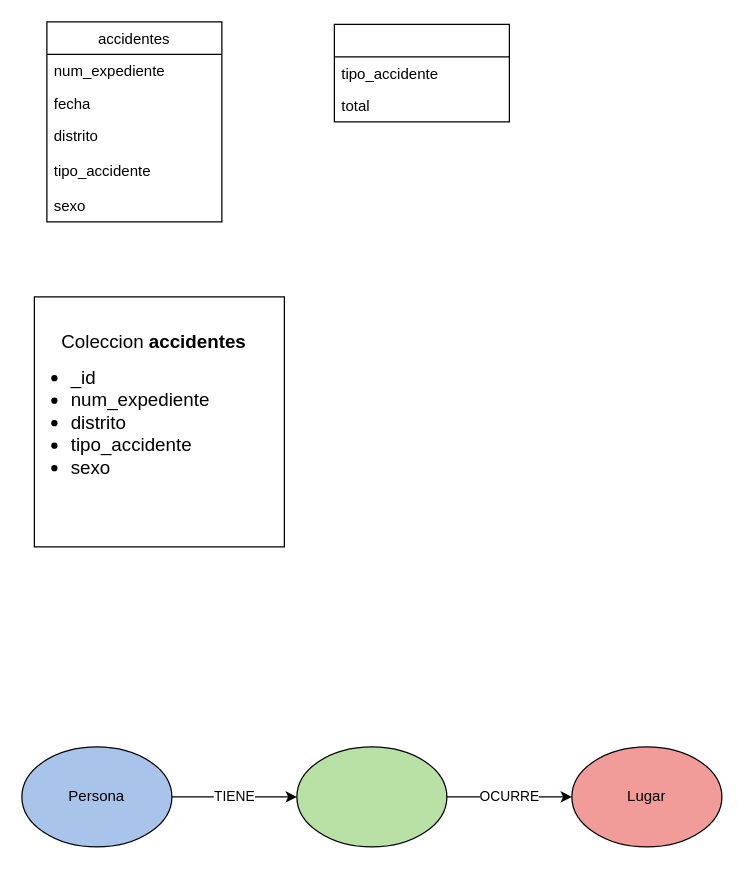
Some shapes in this 744 by 869 pixel diagram are drawn without their labels. Each missing label, with the box of its shape:
Accidente: (296, 746, 447, 847)
acum_tipo_accidente: (333, 23, 509, 122)
